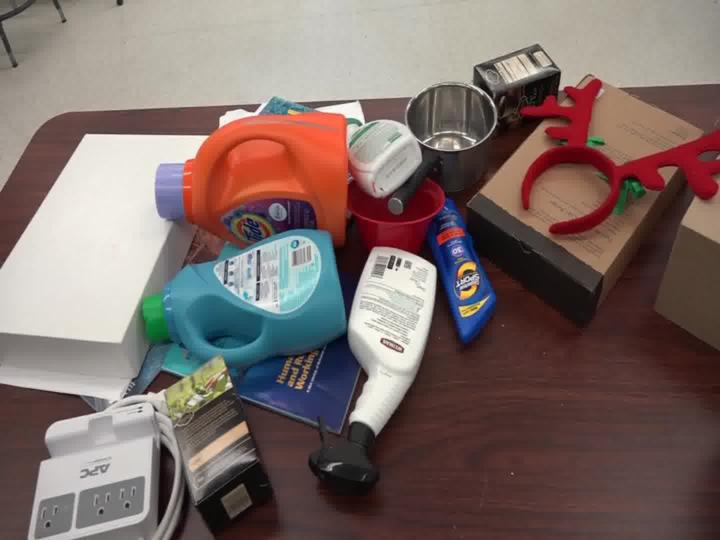downy: (125, 213, 349, 365)
